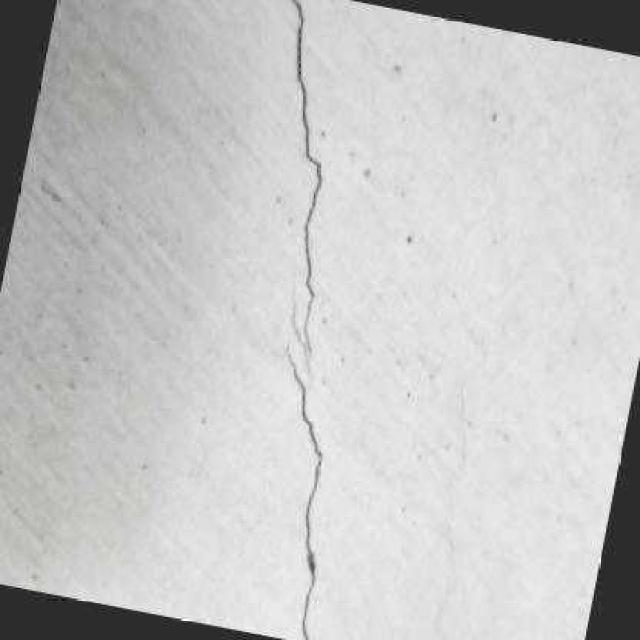D00: (291, 0, 323, 379), (285, 344, 322, 640)
